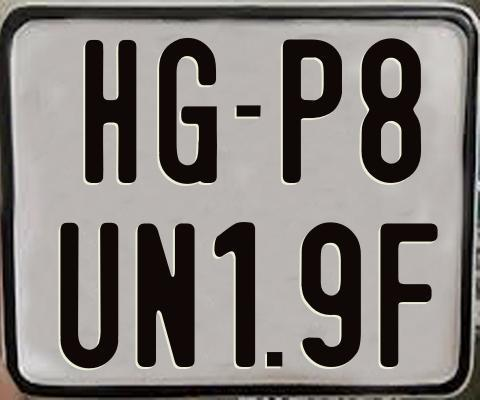1: (211, 220, 258, 367)
8: (361, 35, 424, 180)
9: (300, 222, 361, 369)
F: (379, 222, 439, 369)
G: (157, 37, 219, 189)
H: (82, 38, 140, 185)
N: (136, 220, 195, 368)
P: (283, 36, 345, 181)
U: (60, 221, 123, 372)
